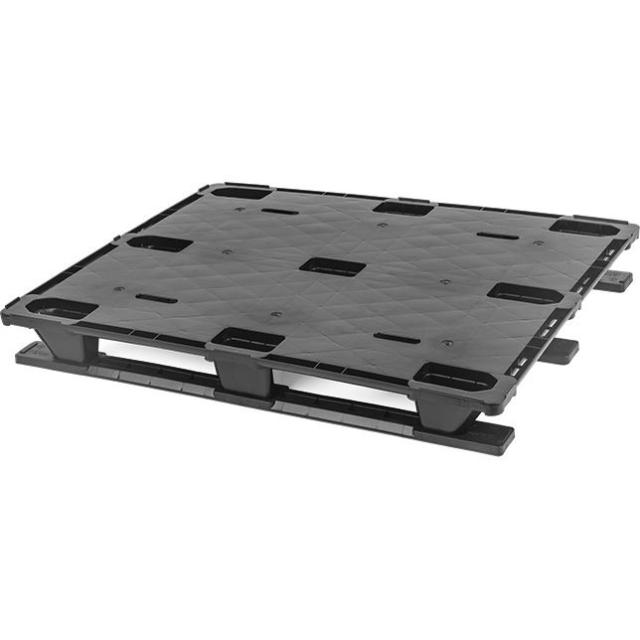non-igps: (0, 173, 640, 463)
